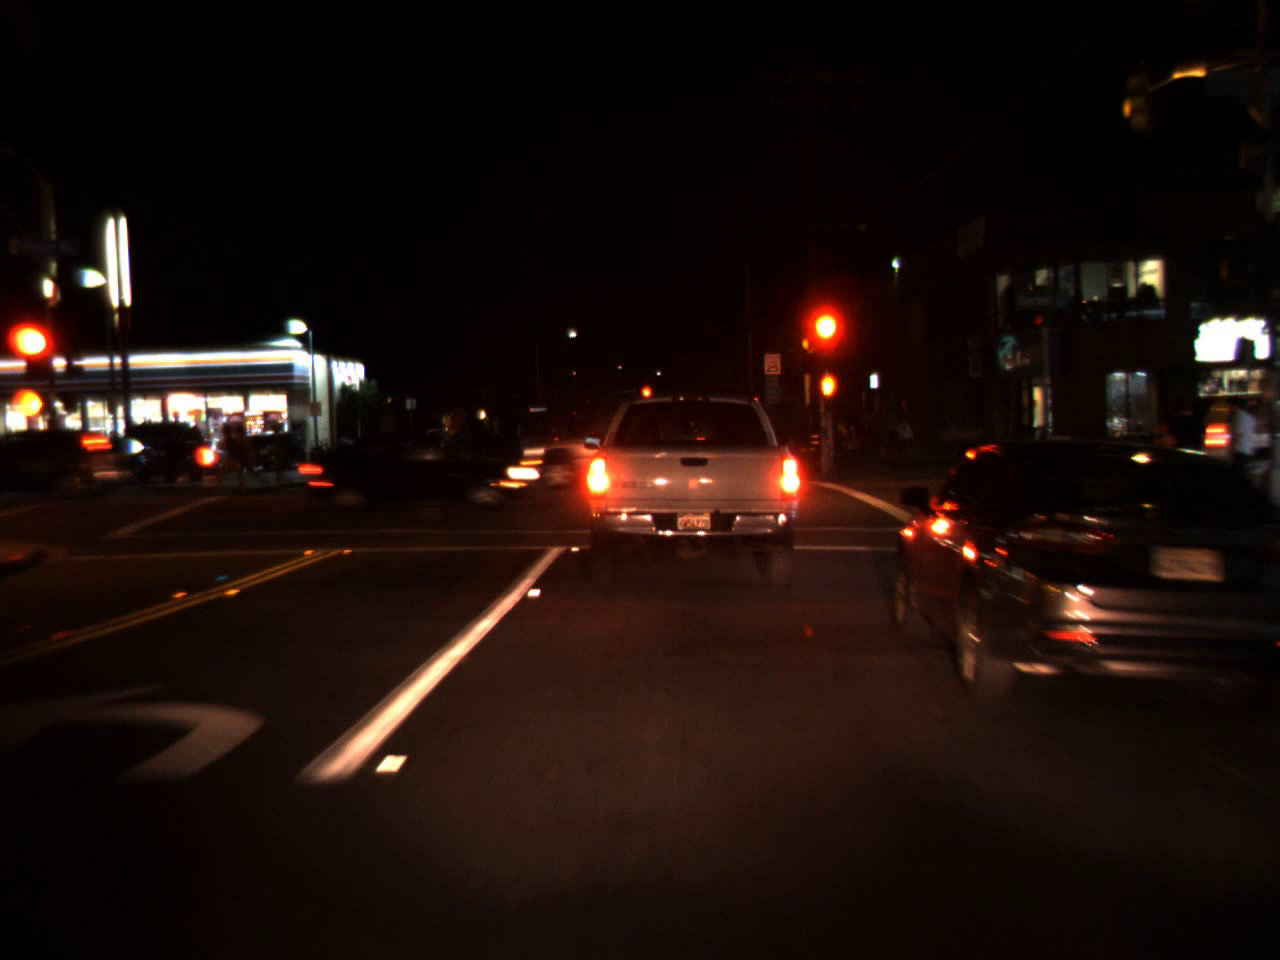stop: (801, 305, 840, 383), (12, 322, 54, 392), (639, 384, 652, 411)
